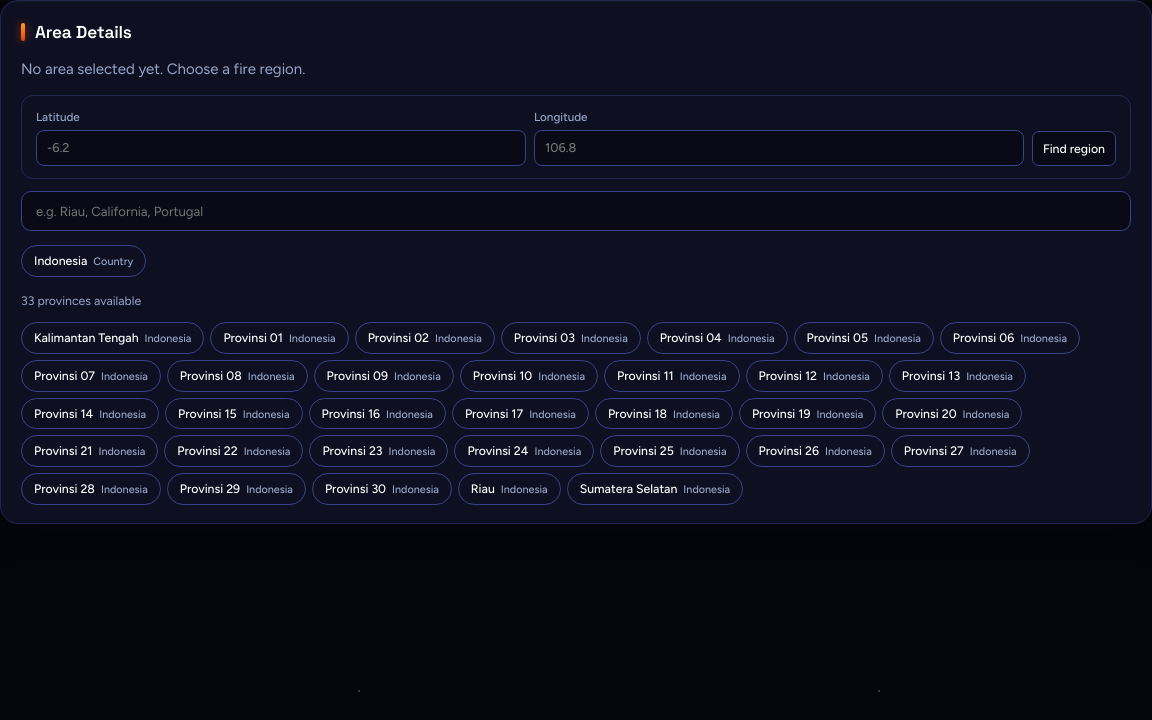
Scenario: AoiPanel › offers all saved provinces and highlights the chosen boundary
The image size is (1152, 720).
Later steps or results of the test are not shown.
Check: the text "33 provinces available" is shown, box [21,293,141,308]
Step 1. Type "Riau" into the search field → (576, 211), box [21,191,1131,231]
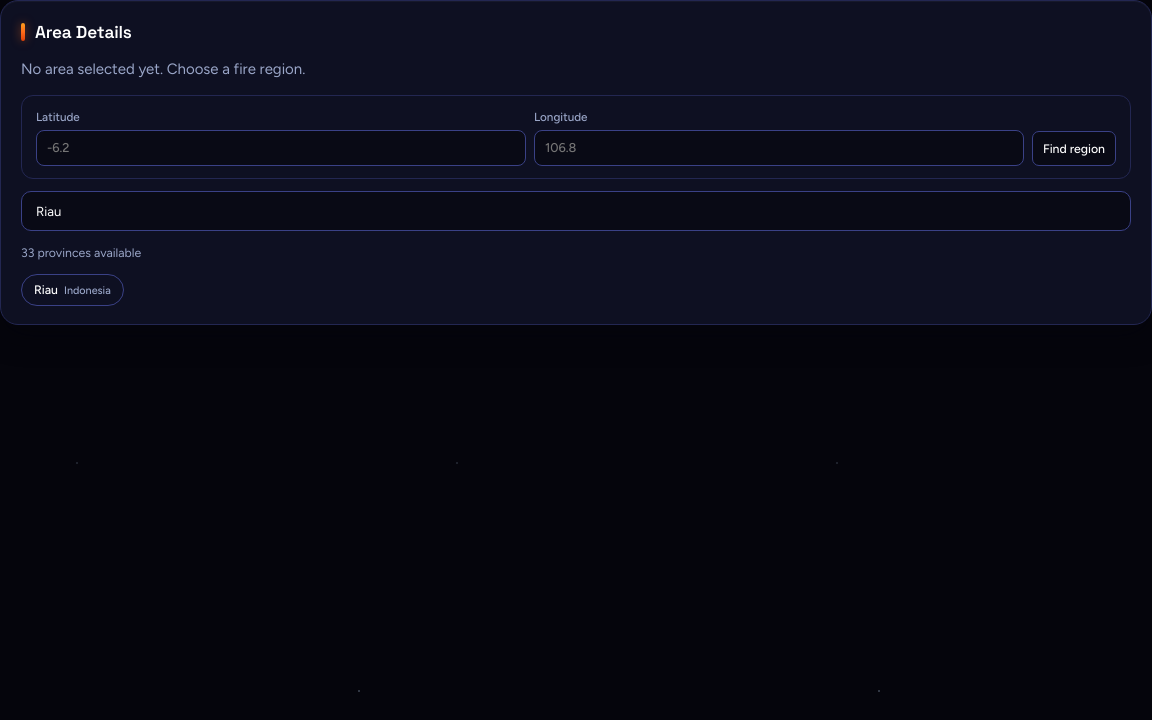
Step 2. Click the button "Riau Indonesia" → (72, 290), box [21,274,124,306]
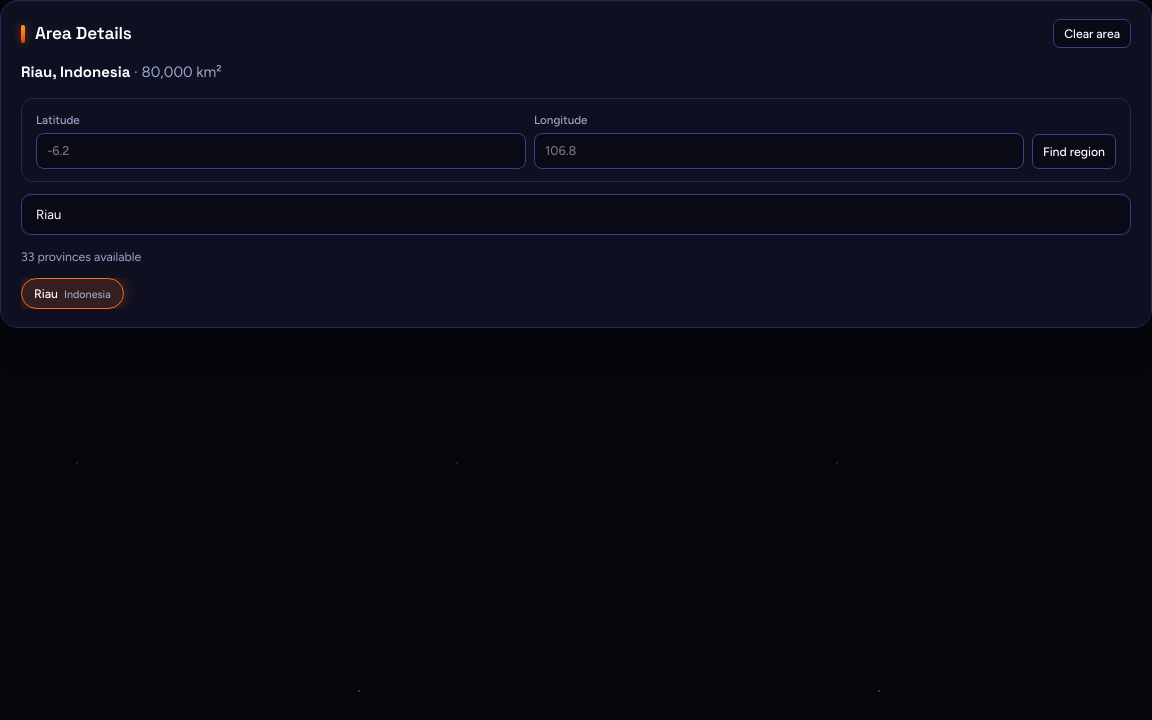
Check: the text "Riau, Indonesia" is shown, box [21,62,130,81]
